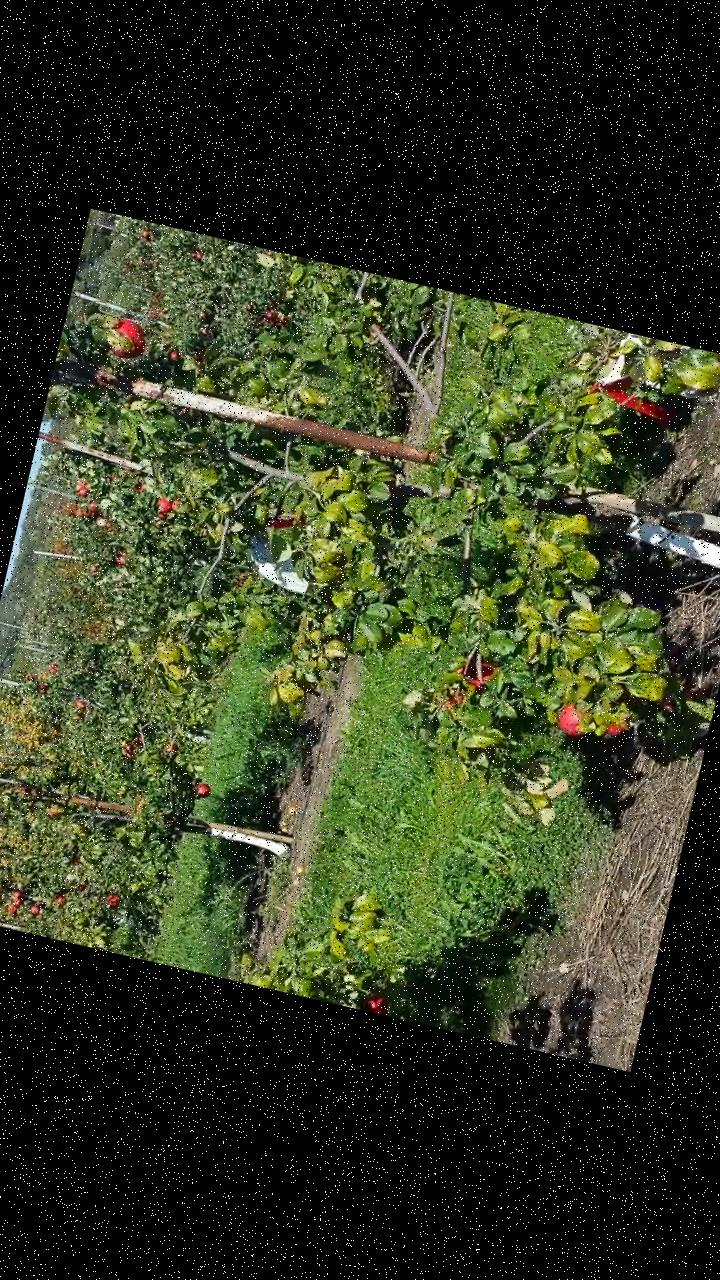Apple: (442, 654, 496, 719), (103, 314, 150, 360), (550, 694, 590, 739), (358, 990, 386, 1014), (599, 717, 628, 740), (268, 514, 292, 532)
